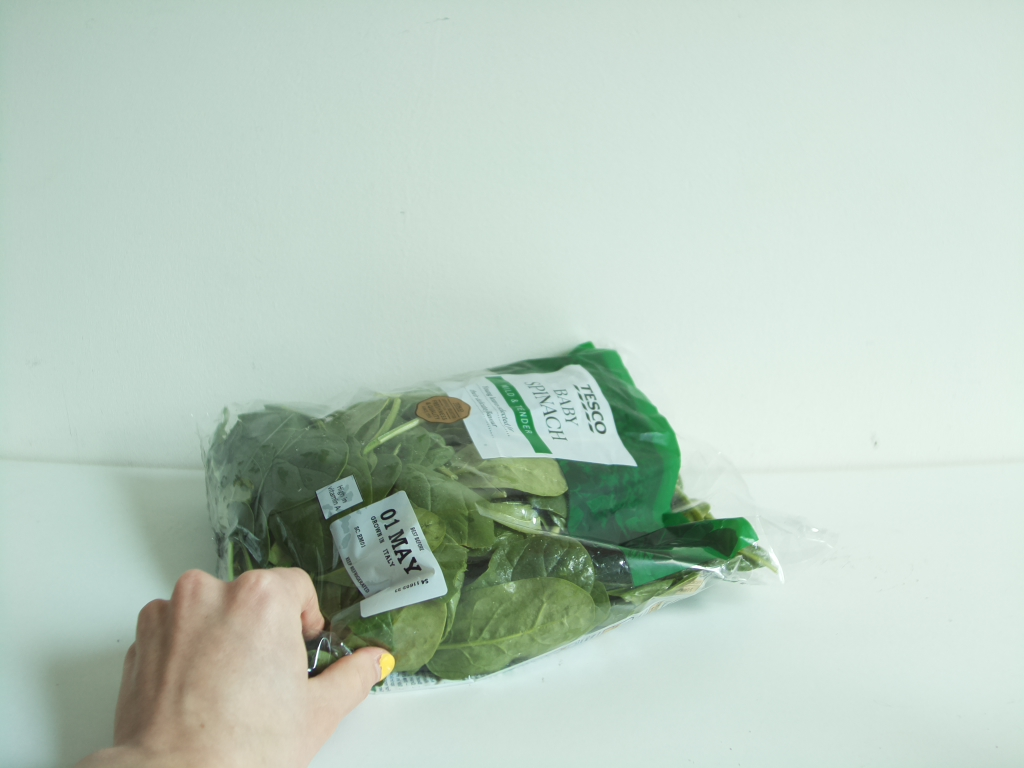salad: (205, 342, 782, 675)
